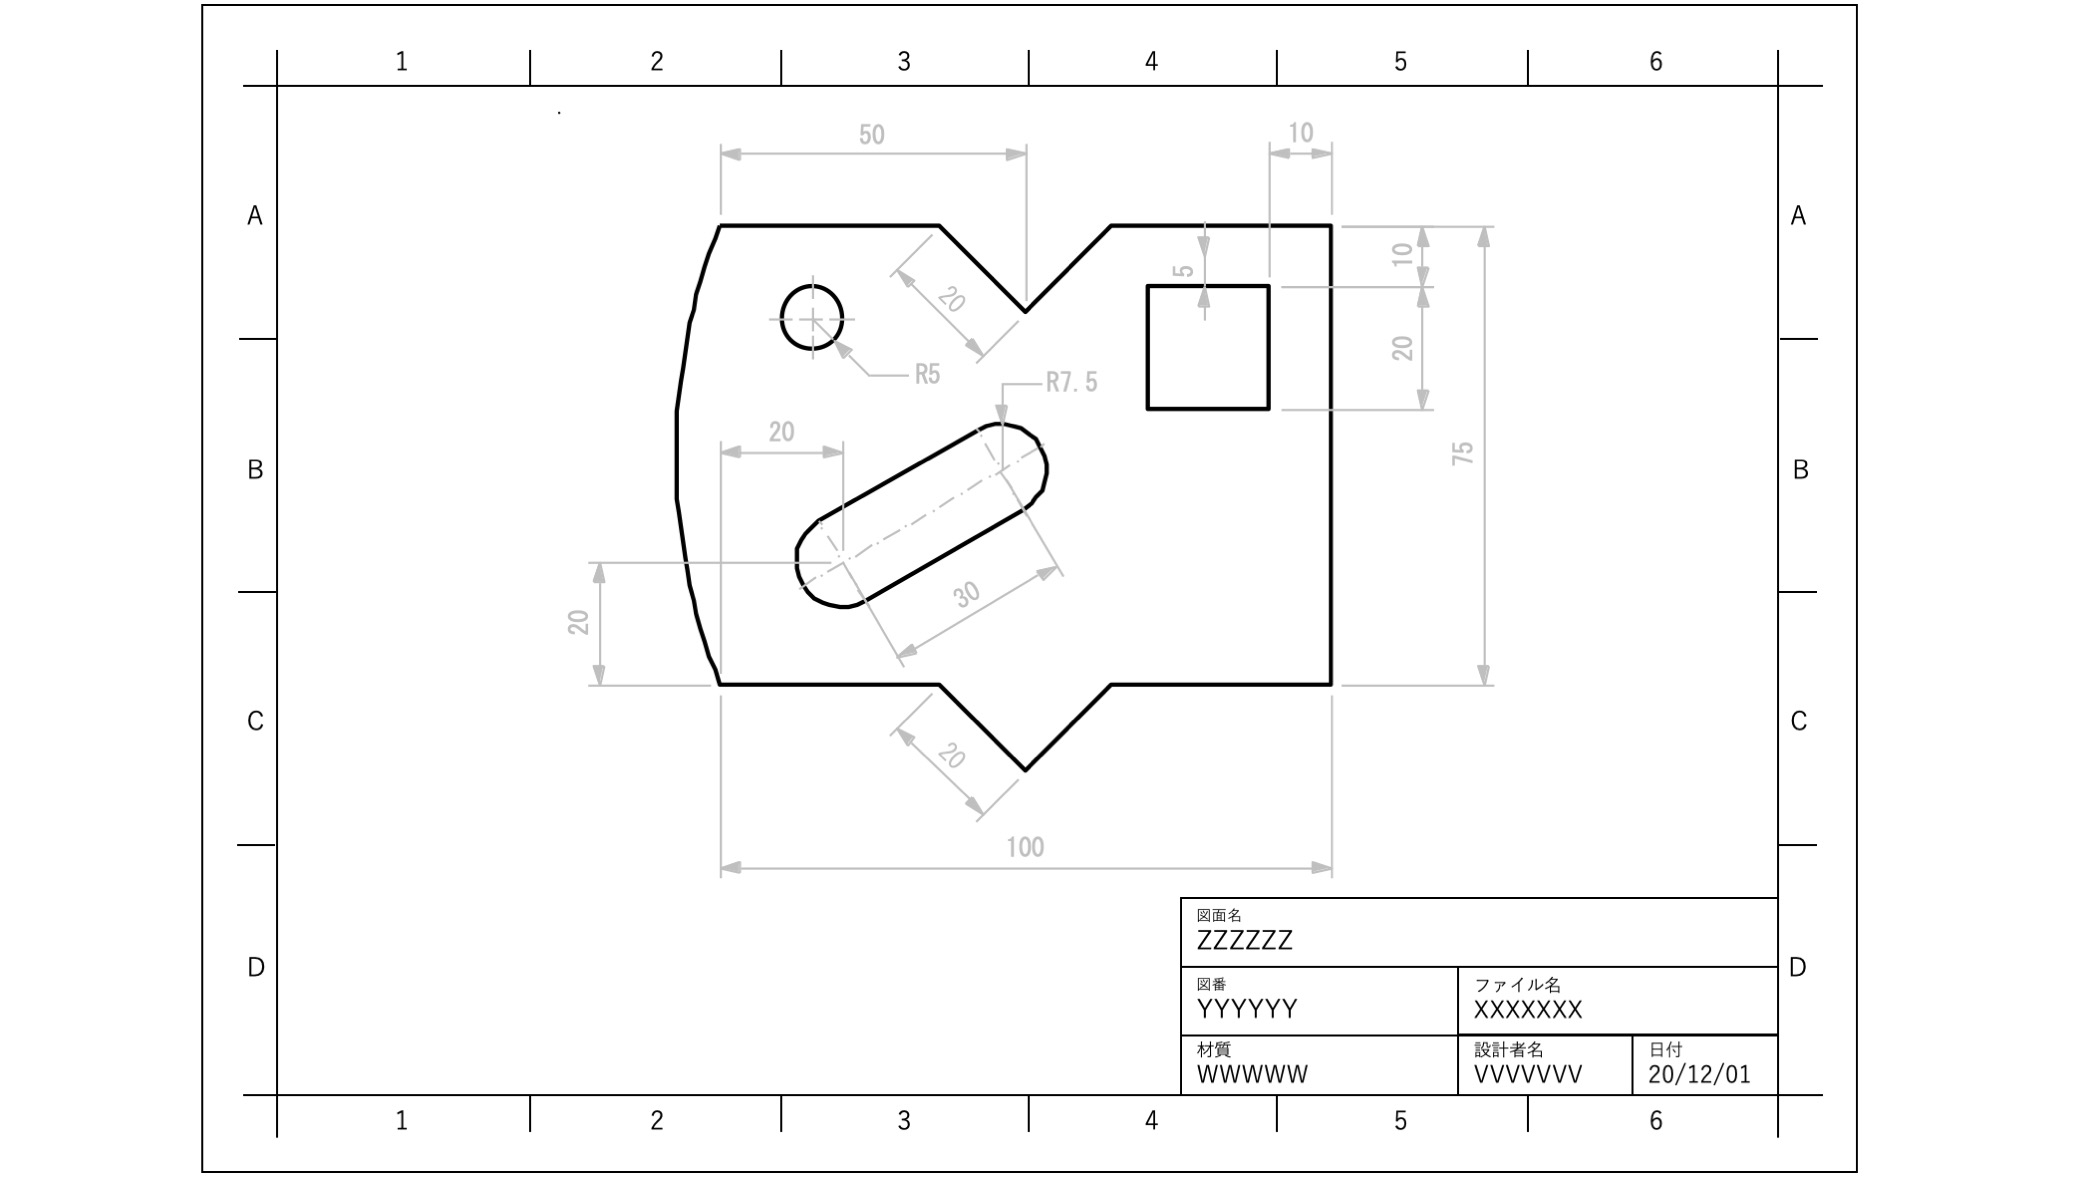circle: (769, 267, 850, 368)
rectangle: (1125, 271, 1287, 417)
round_rectangle: (782, 401, 1049, 630)
